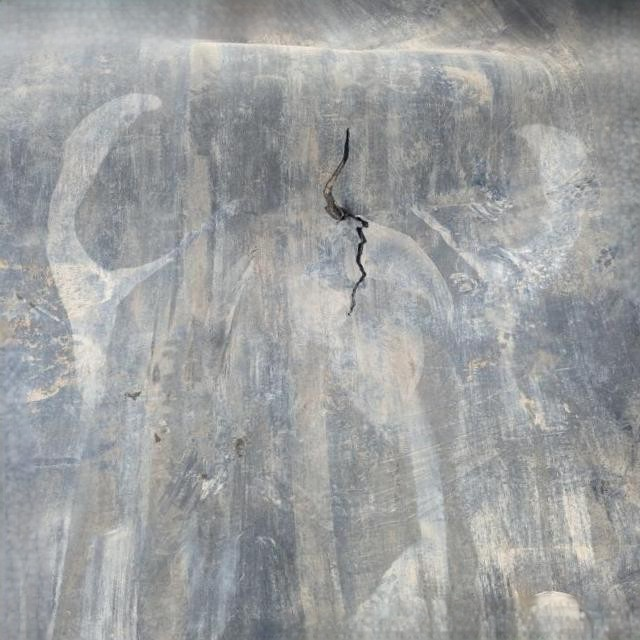Tear: (289, 115, 404, 329)
